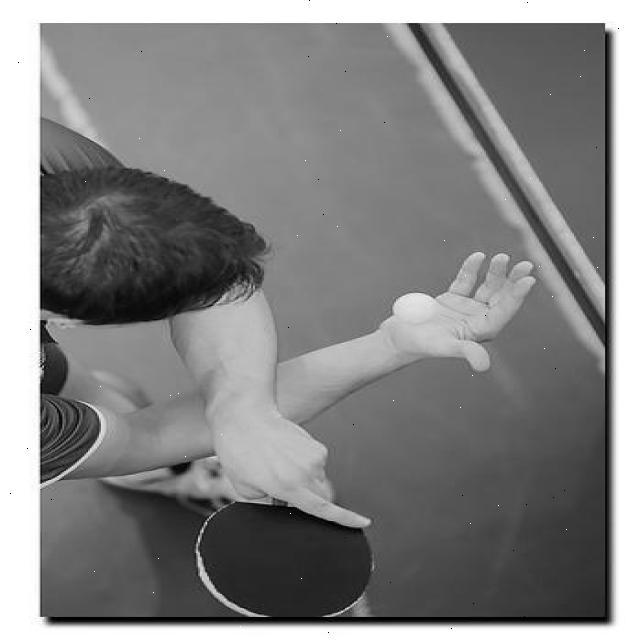ping-pong-ball: (392, 291, 440, 324)
